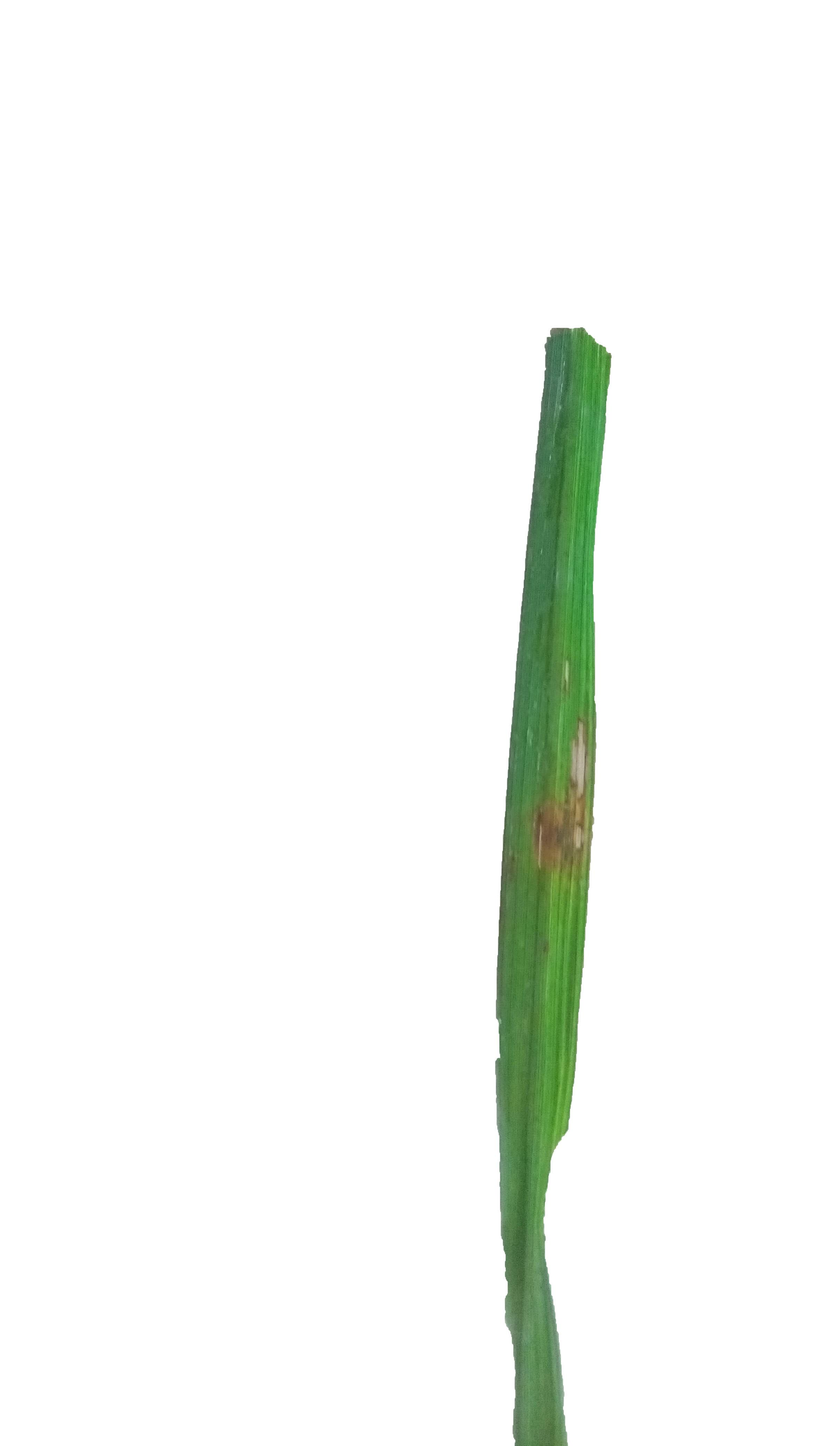Rice blast: (526, 712, 585, 872)
